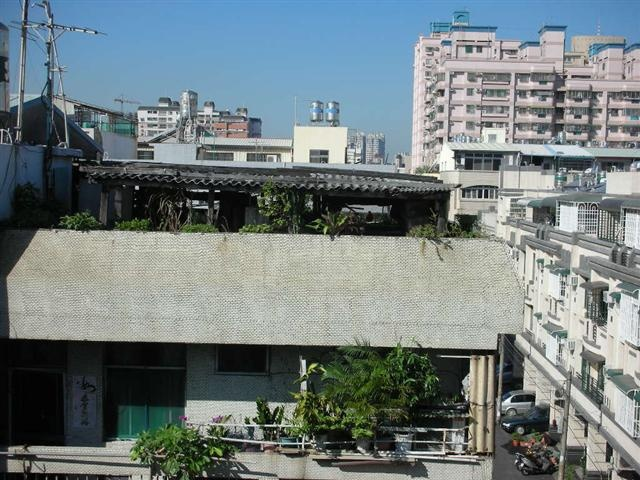water_tower: (178, 87, 199, 120), (324, 99, 341, 125), (308, 98, 324, 124), (552, 168, 568, 189)
